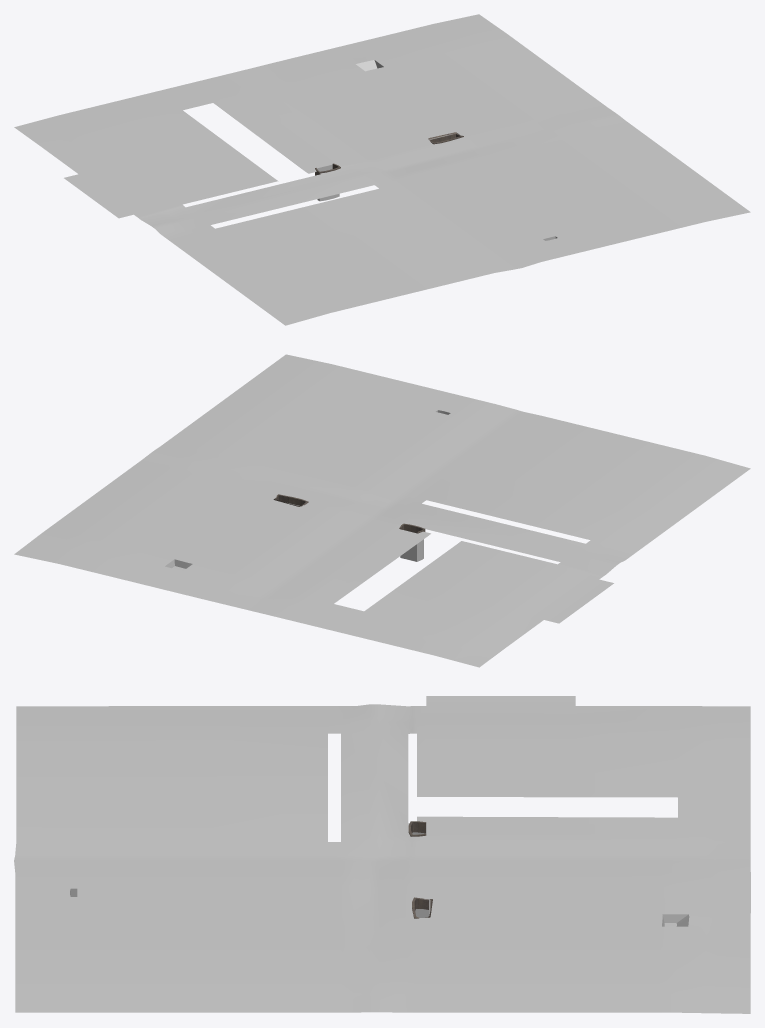
File: Corridor_01_03.fbx
3 views of the same model, one above another, from view 1: azimuth 30°, elevation 25°; view 2: azimuth 150°, elevation 25°; view 3: azimuth 270°, elevation 25° (orthographic). The views are drawn at different scales.
Parts seen in each view (by area): view 1: Corridor_01_03; view 2: Corridor_01_03; view 3: Corridor_01_03.
Part boxes in pixels (<box>): Corridor_01_03: <box>14,14,750,325</box>; Corridor_01_03: <box>14,354,750,667</box>; Corridor_01_03: <box>14,696,750,1013</box>.
Bounding box in the file's own units: 3835 × 262 × 3769.
